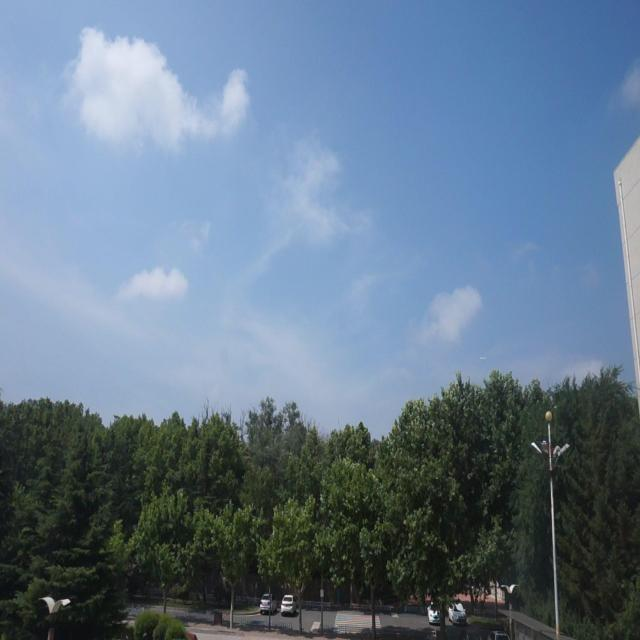drone: (479, 348, 487, 366)
